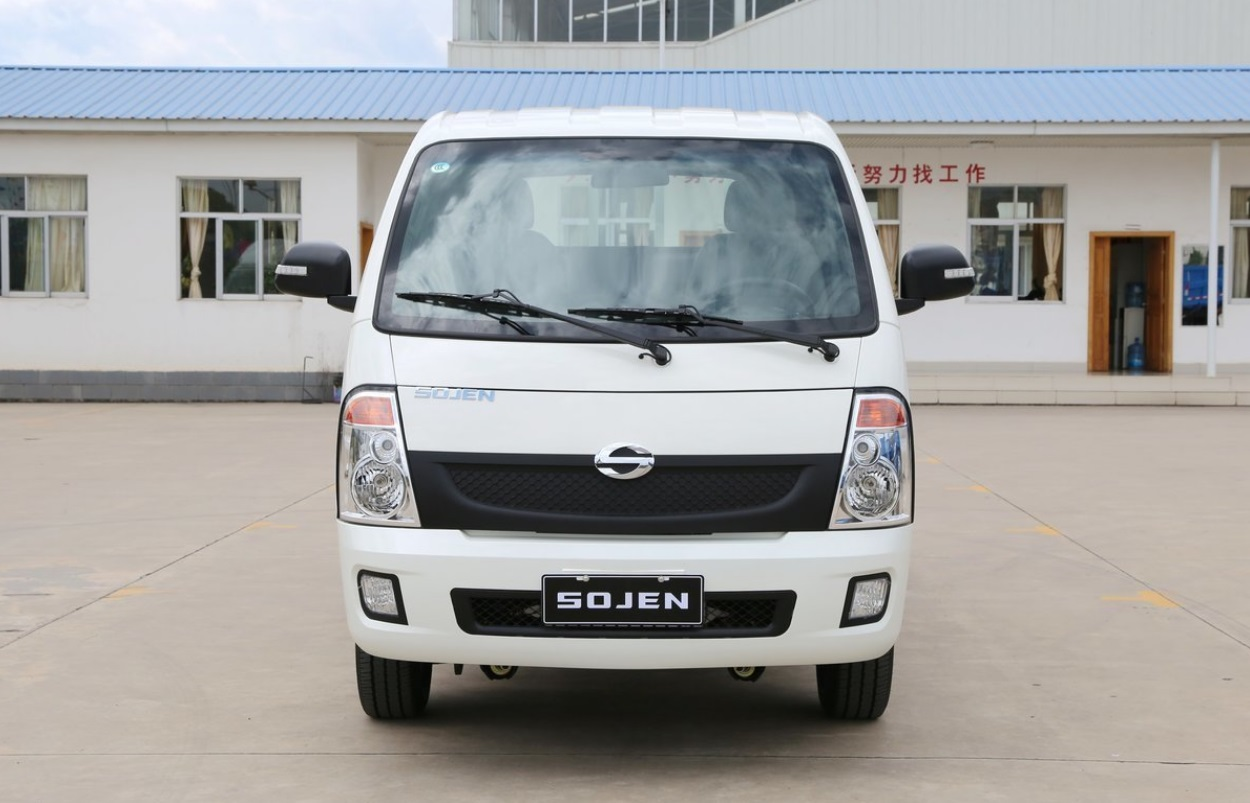truck: (272, 103, 976, 740)
